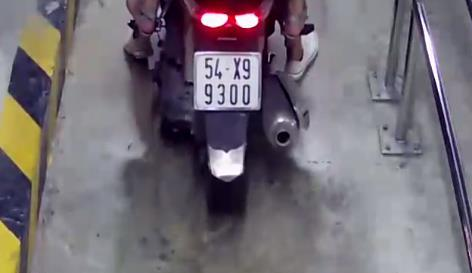lisence: (192, 51, 260, 111)
